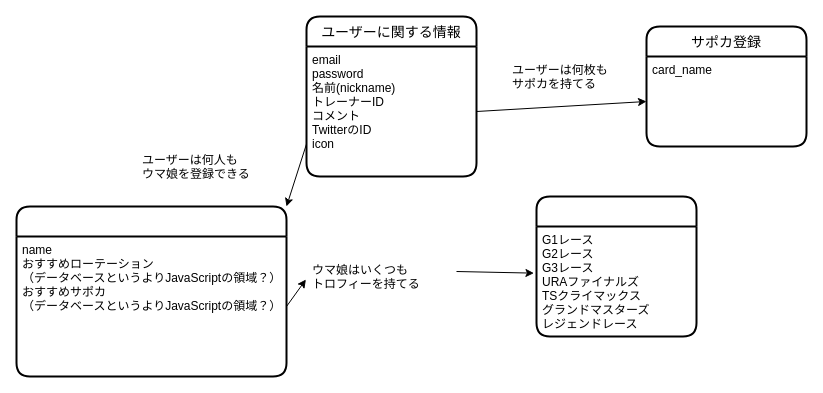
Image size: 823x393. Some labels were removed from this diagram. The shapes that lost their labels are listed below. From the top down, each one's box as (x1, y1, x2, y2) in pixels, then its label:
(535, 195, 697, 337): ウマ娘詳細情報 （トロフィー）
(15, 205, 287, 377): ウマ娘情報
